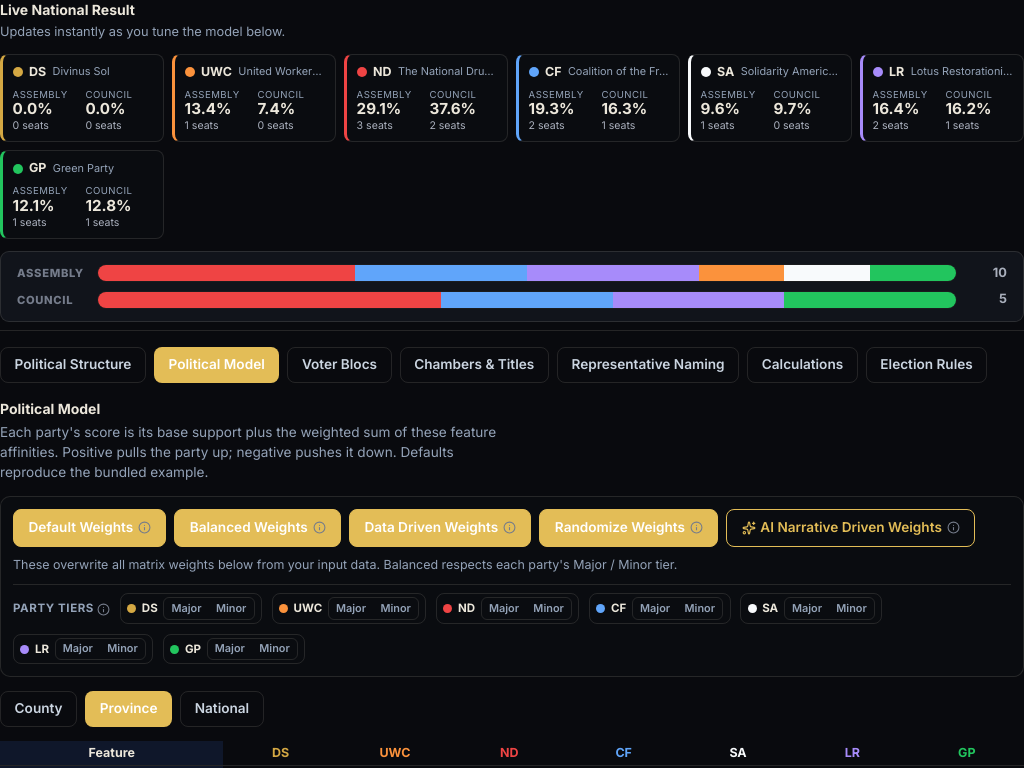
Scenario: AdvancedSetup - AI Narrative Driven Weights › populates voter blocs on the Voter Blocs tab via the AI Narrative Driven Voter Blocs button
Click the button with class "advanced-tab" showing "Voter Blocs" at (339, 365), box [287, 347, 392, 383]
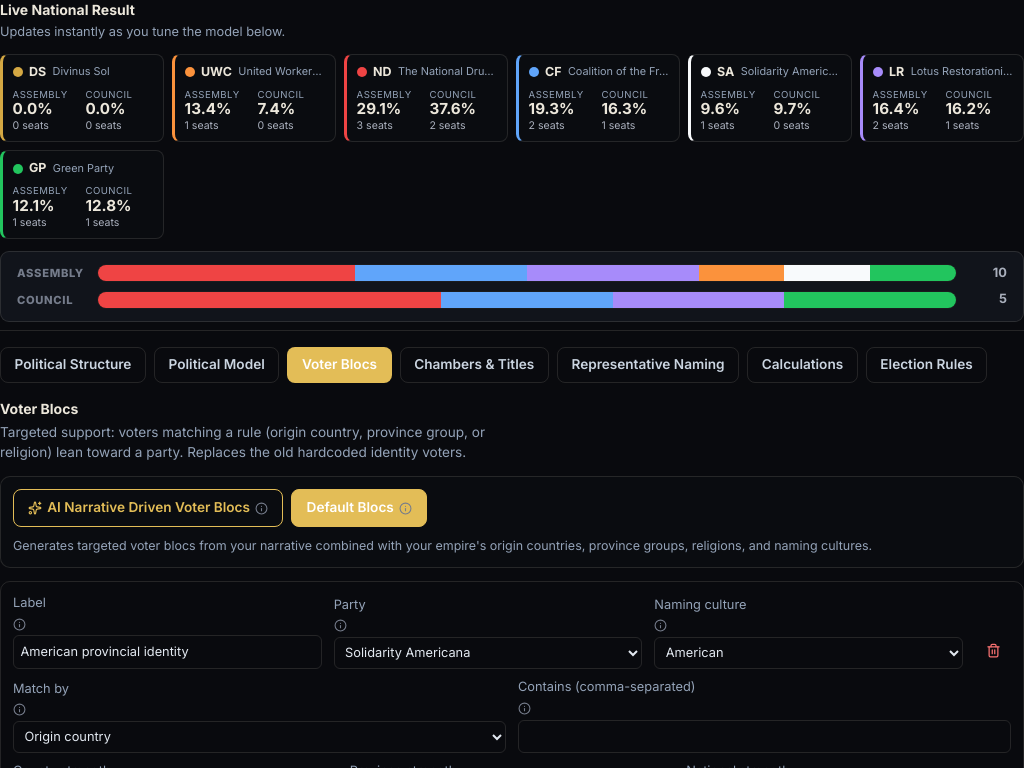
Check: the button "AI Narrative Driven Voter Blocs" is shown
Click the button "AI Narrative Driven Voter Blocs" at (148, 508), box [13, 489, 283, 527]
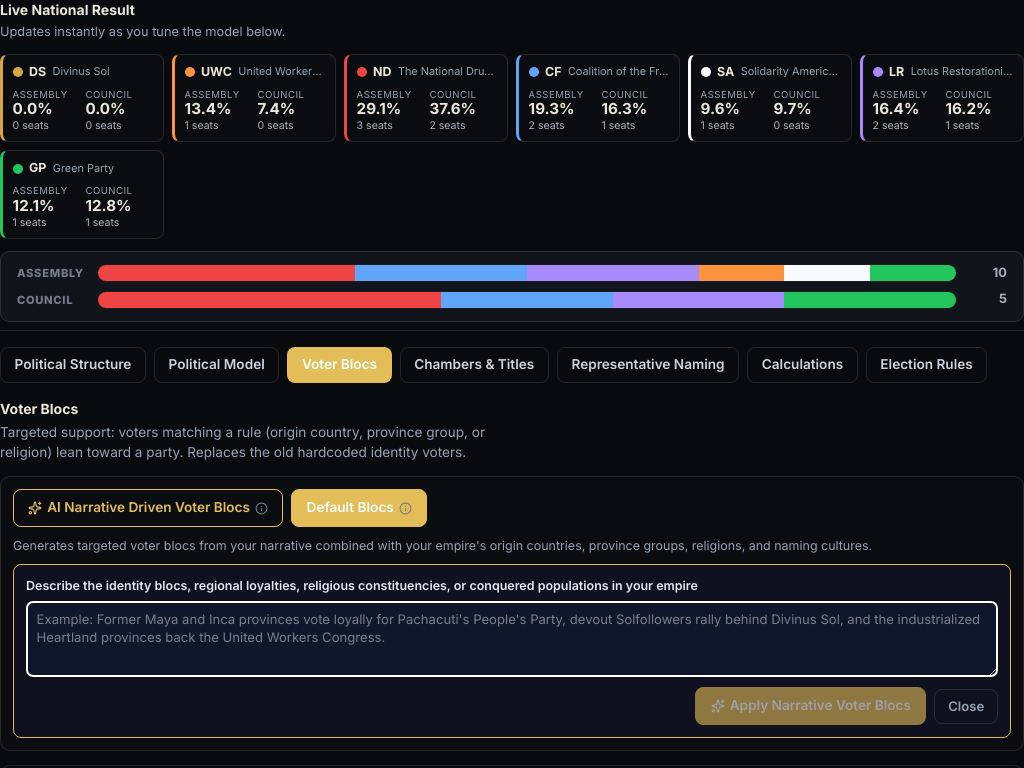
Check: the text box is shown
Replace the text in the text box with "Former Maya provinces vote for Purple while Zoroastrian faithful support Yellow." at (512, 639), box [26, 601, 998, 677]
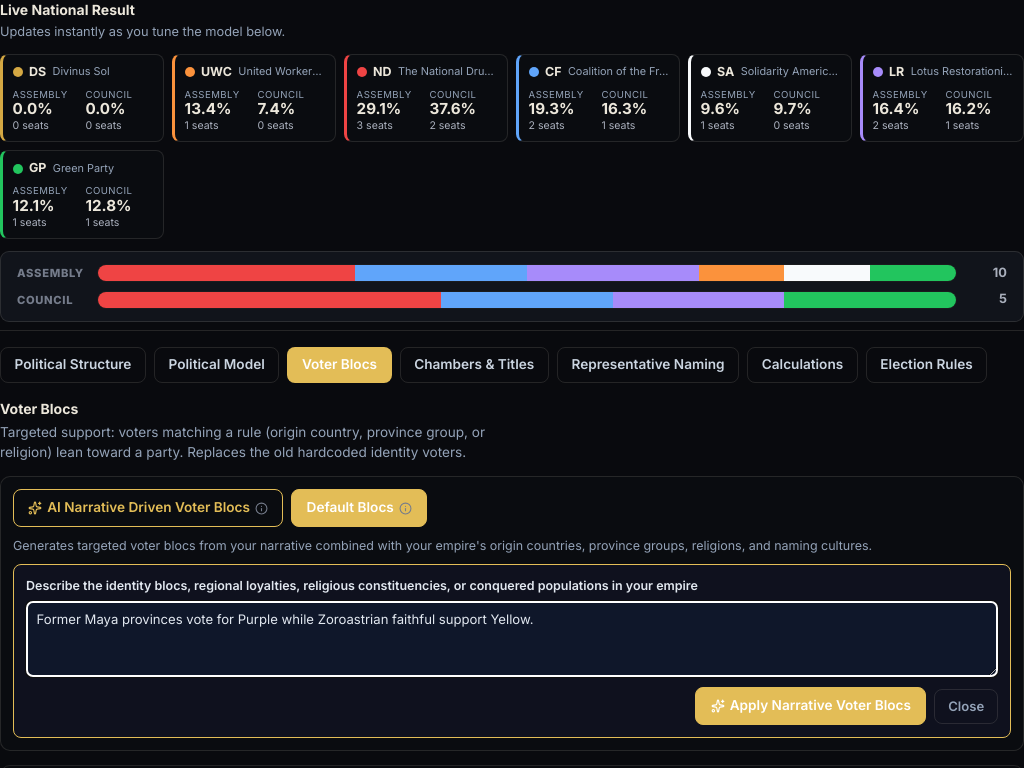
Click the button "Apply Narrative Voter Blocs" at (811, 706), box [696, 687, 926, 725]
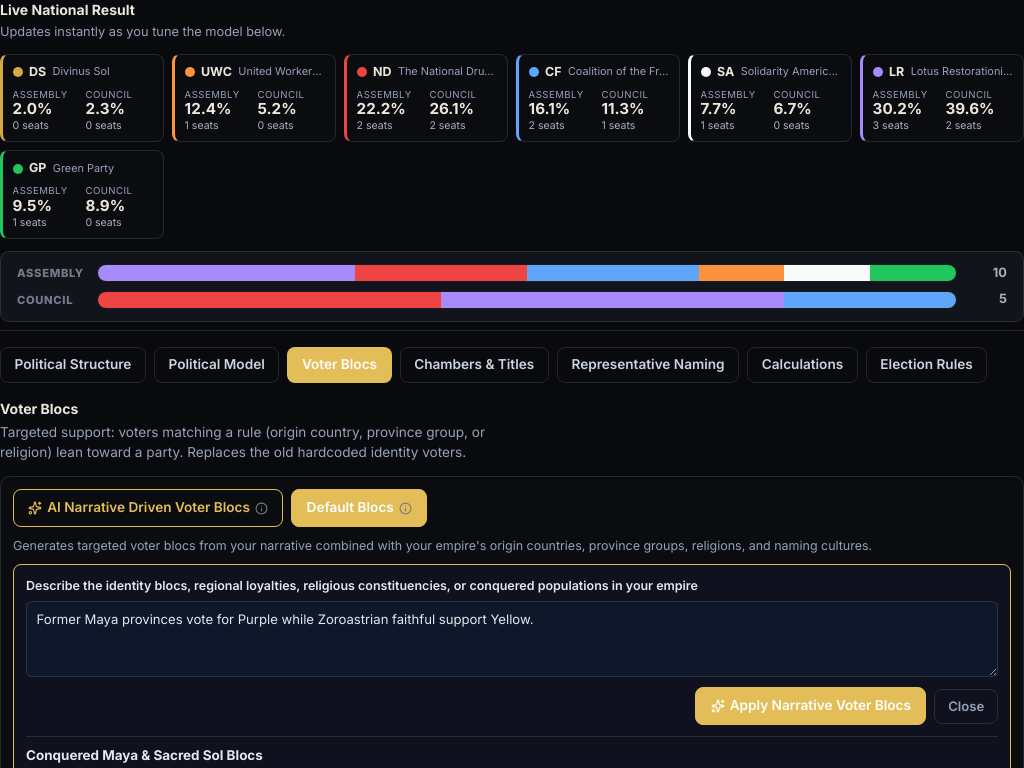
Check: the text "Conquered Maya & Sacred Sol Blocs" is shown, box [26, 747, 263, 763]
